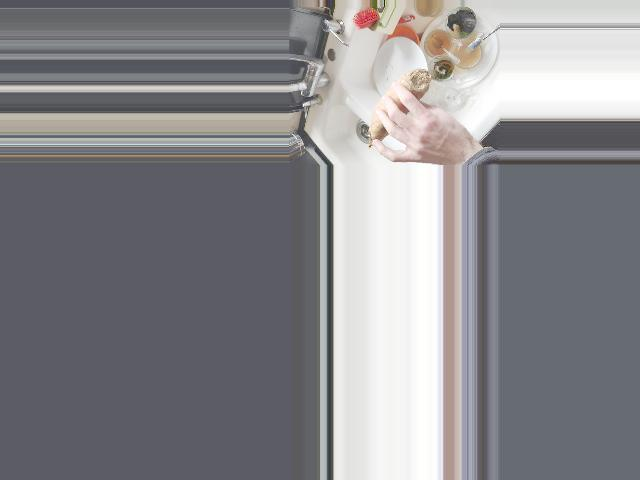sweet_potato: (368, 71, 430, 149)
